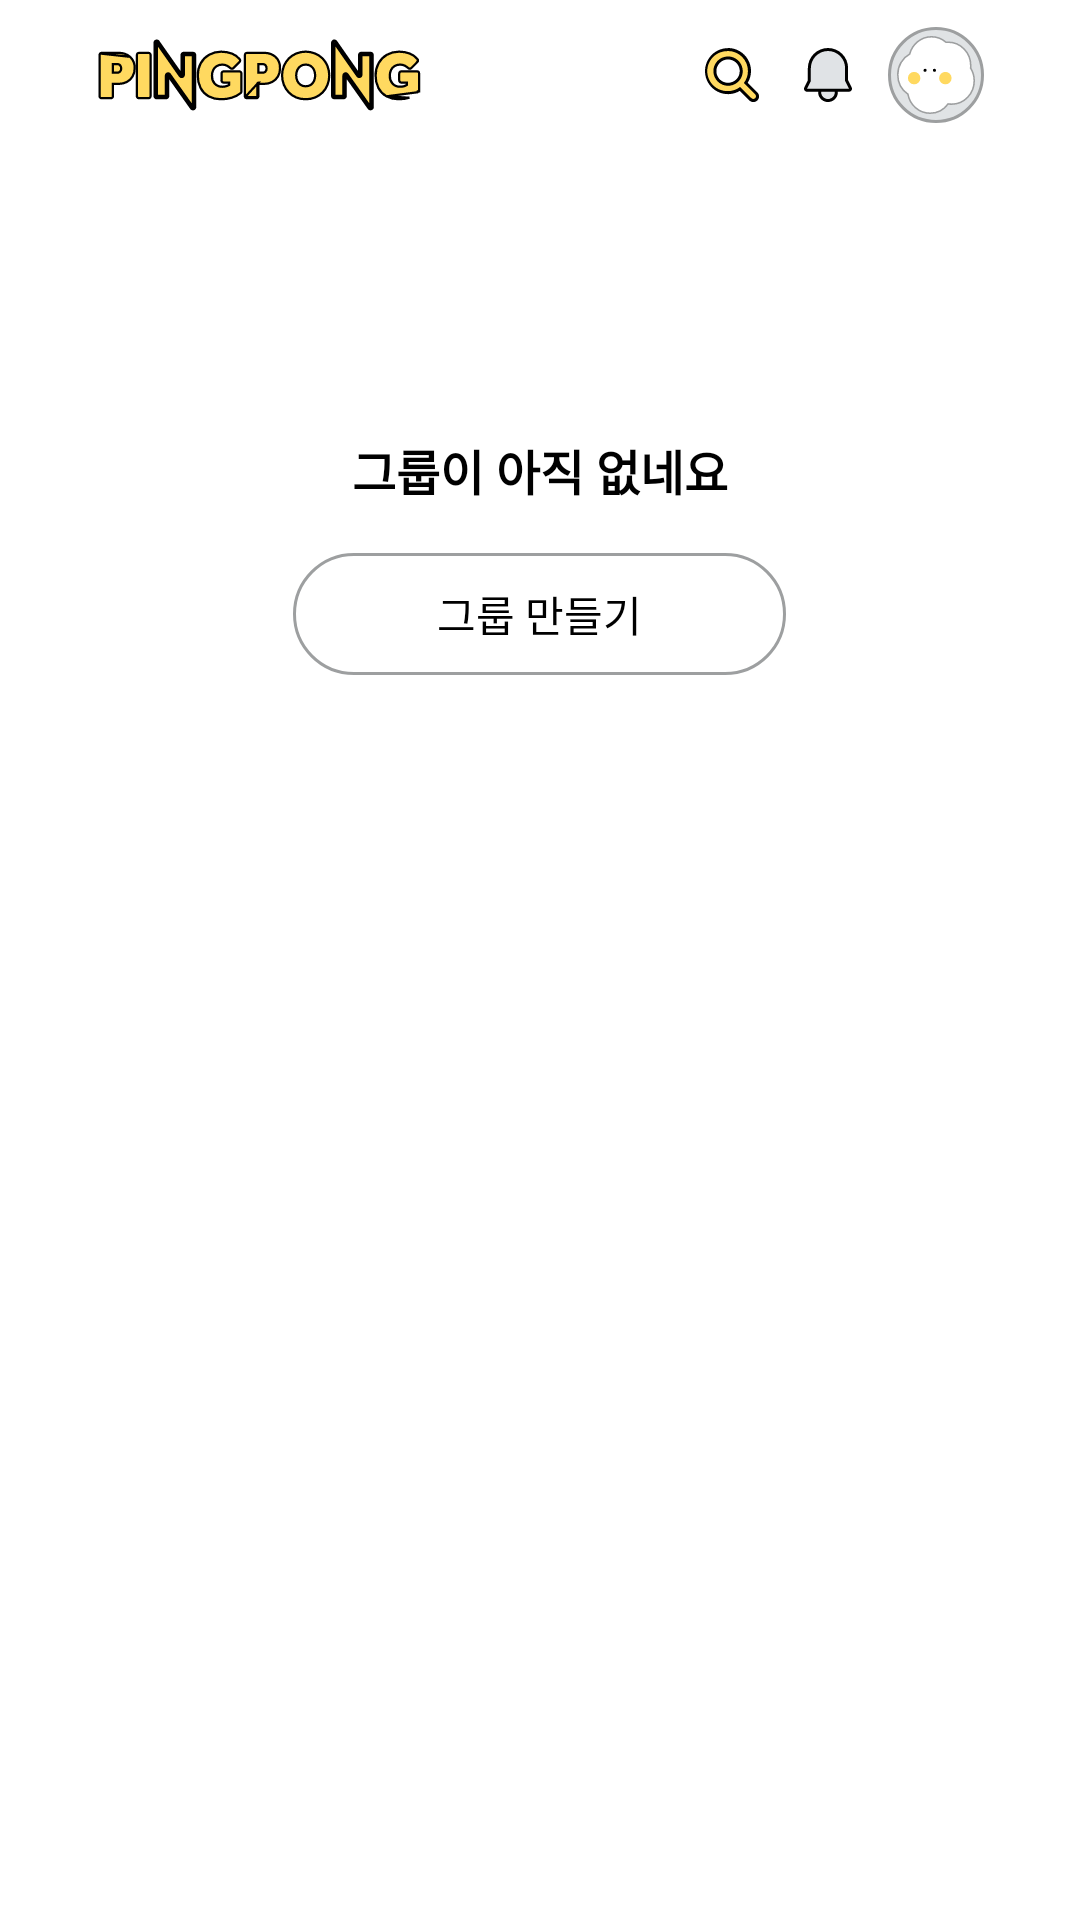

Icon click points for this 1080 x 1920 phone screenshot, format [x,y]:
profile popcorn: [936,75]
search: [732,75]
